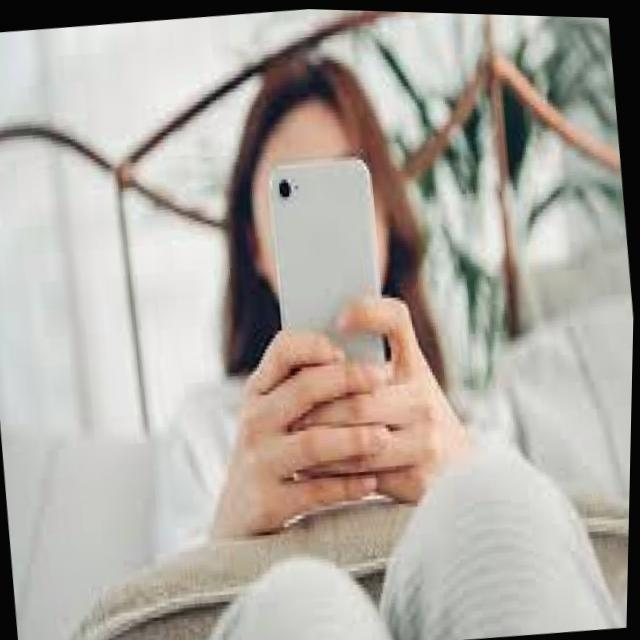Smartphone: (250, 141, 420, 482)
